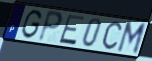0: (82, 17, 101, 48)
C: (101, 21, 123, 51)
E: (57, 14, 87, 47)
G: (20, 8, 43, 40)
M: (115, 21, 148, 57)
P: (36, 9, 64, 43)
